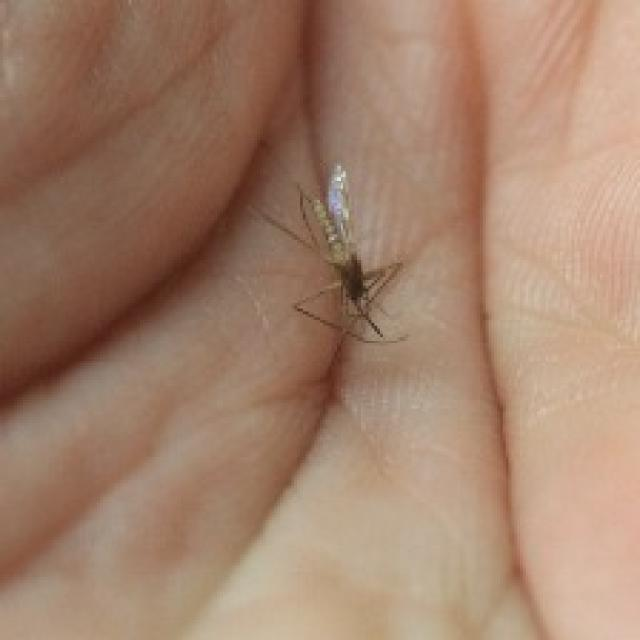culex: (248, 160, 408, 346)
